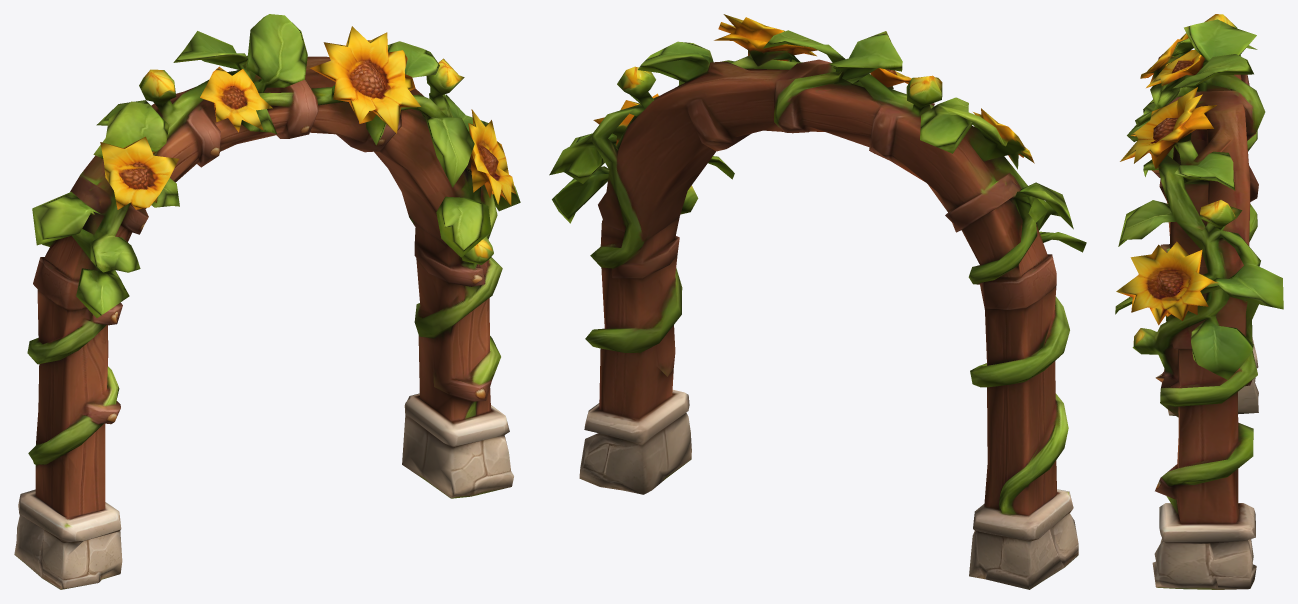
Rendered from flower-arch.glb.
The picture shows the model from 3 angles, left to right: view 1: azimuth 30°, elevation 25°; view 2: azimuth 150°, elevation 25°; view 3: azimuth 270°, elevation 25°; orthographic projection. The views are drawn at different scales.
Visible parts, largest first — view 1: flower-arch; view 2: flower-arch; view 3: flower-arch.
Boxes of the visible parts, bbox=[...] form: flower-arch: bbox=[14, 14, 520, 589]; flower-arch: bbox=[549, 14, 1086, 589]; flower-arch: bbox=[1115, 14, 1283, 589].
Size of the model in its own units: 3.2 by 3.05 by 1.05.
1 material, 1 textured.
